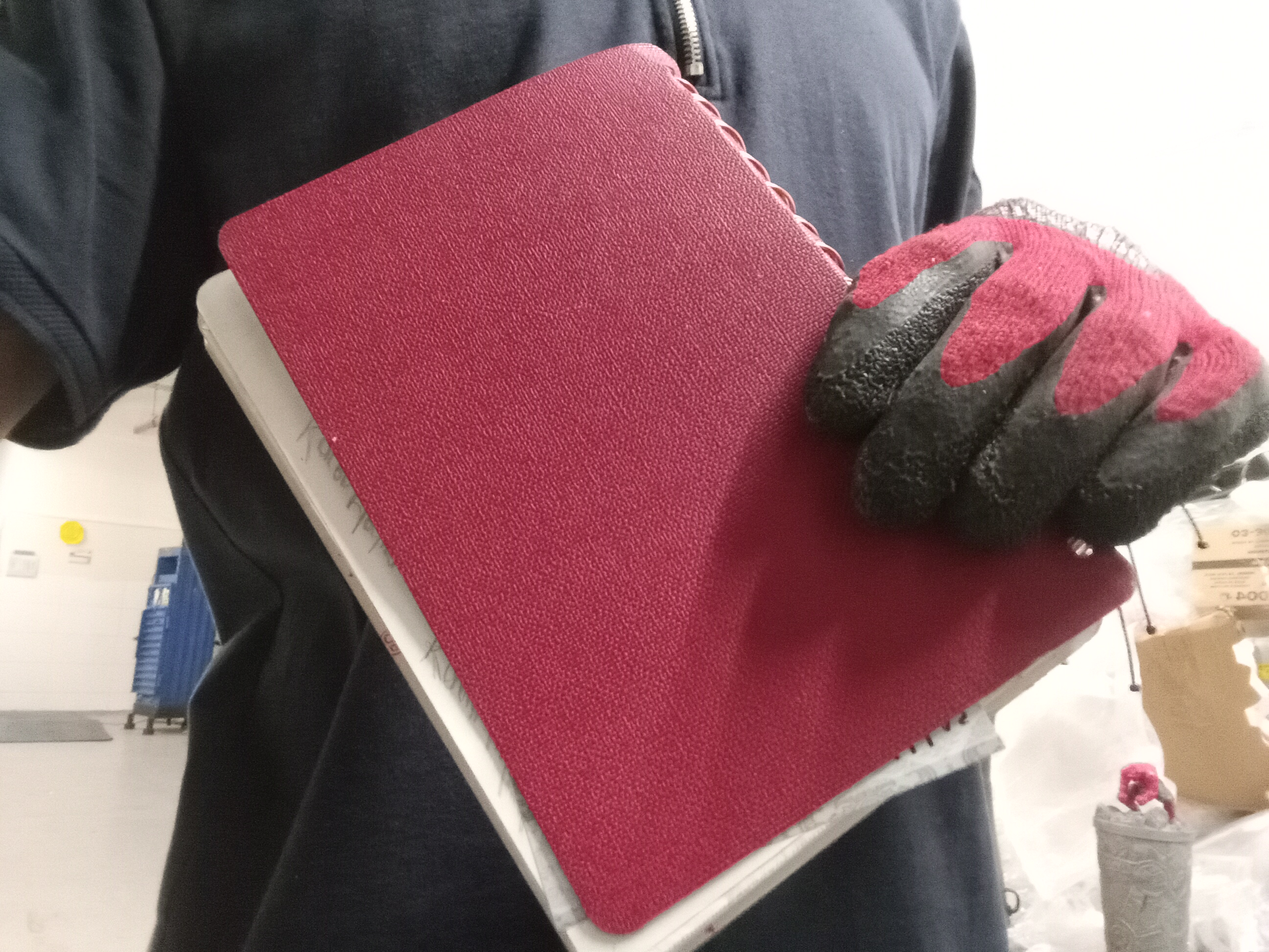Carton: (198, 40, 1131, 952)
